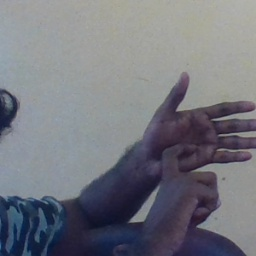R: (131, 69, 256, 215)
